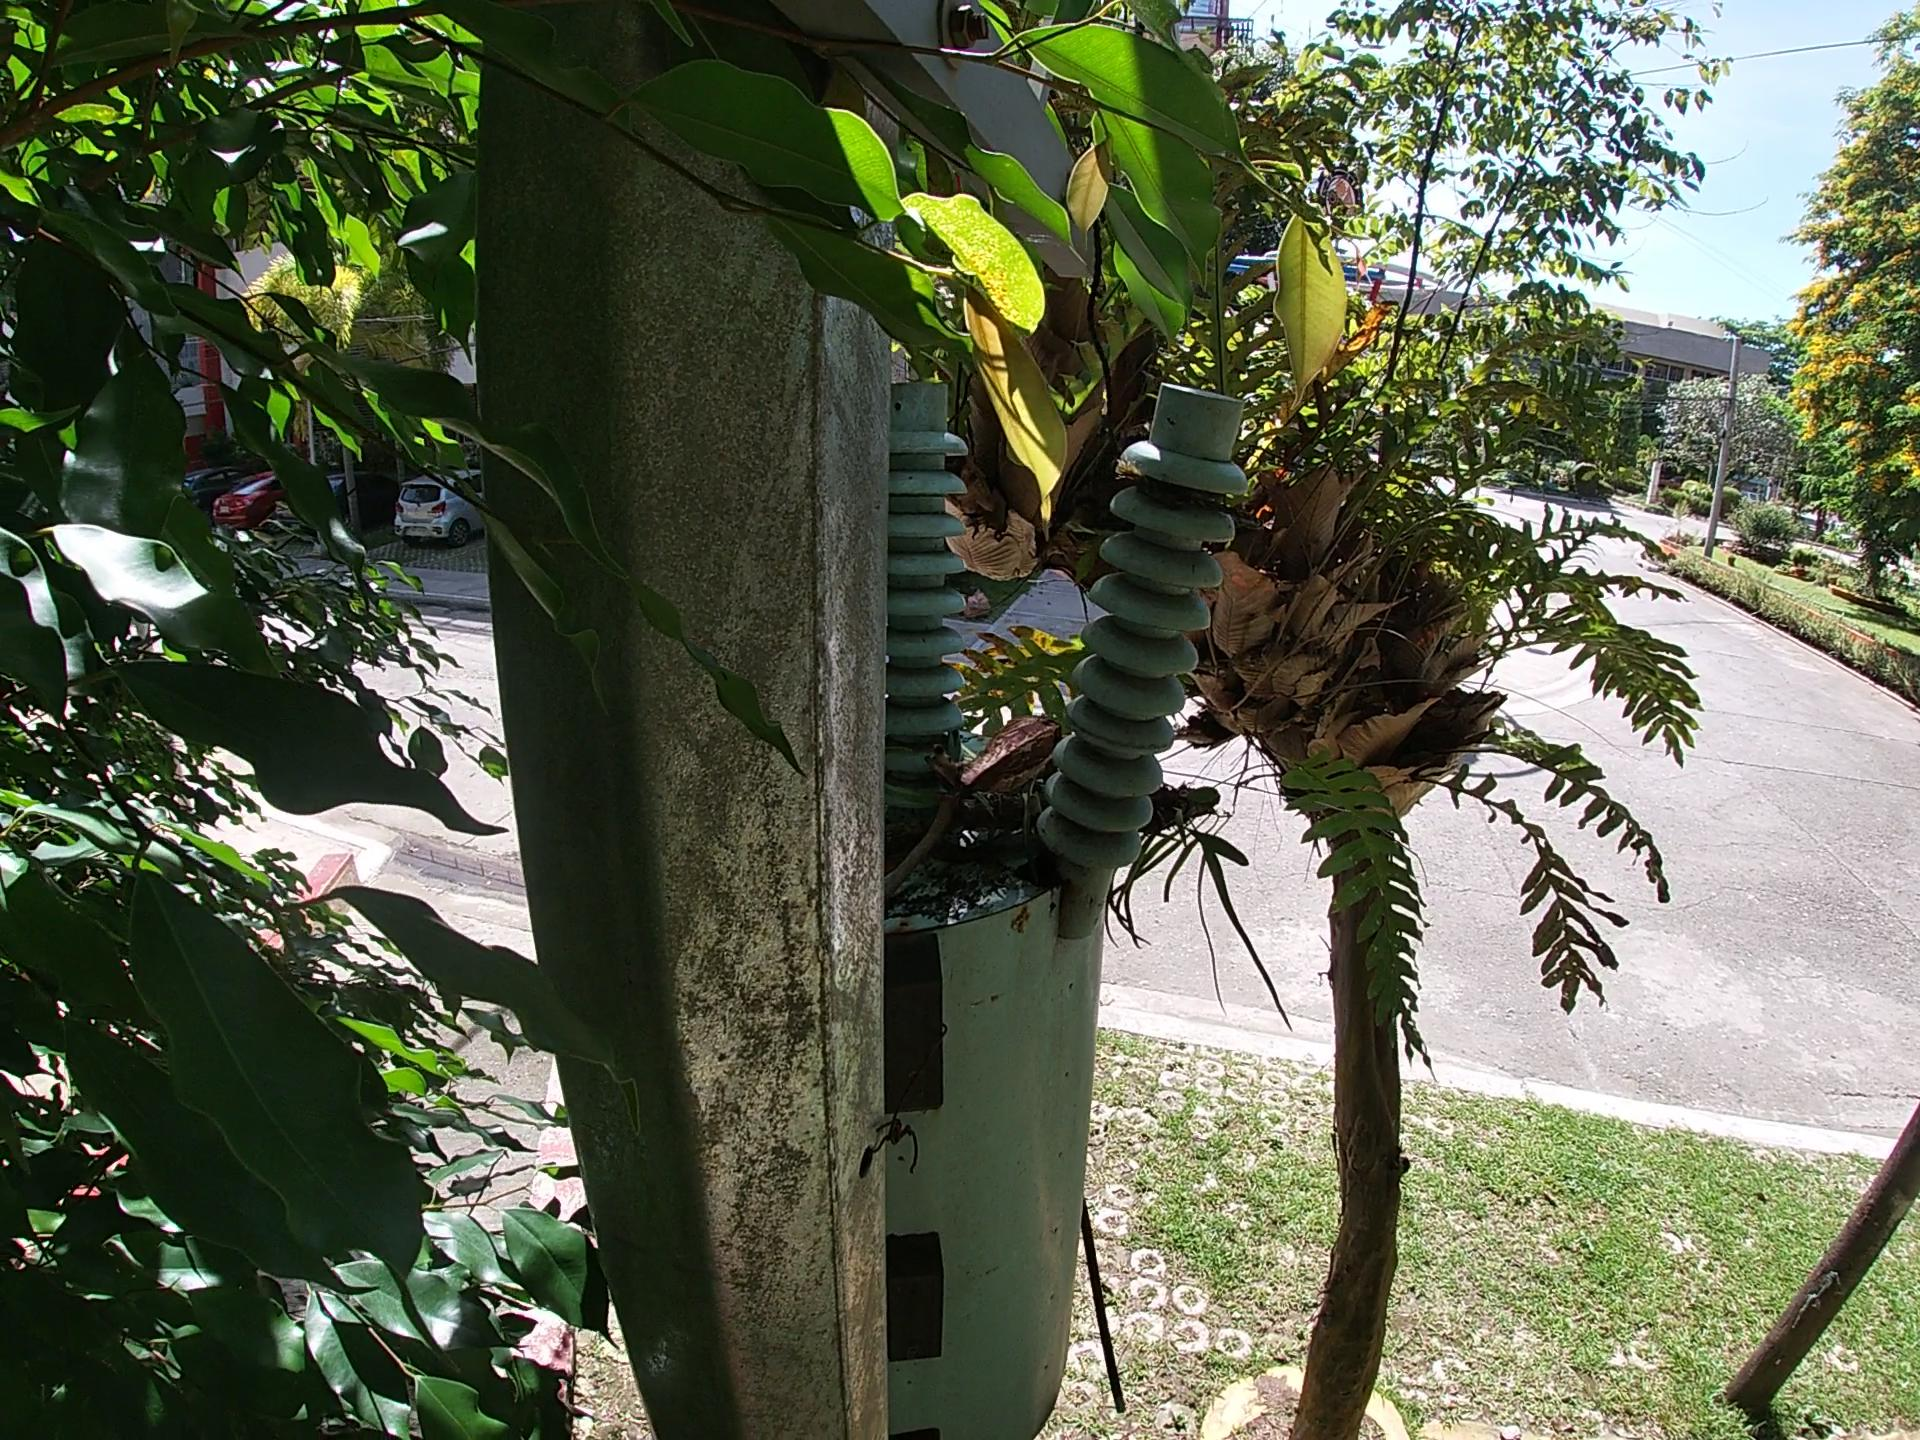branch with leaves: (900, 687, 1234, 835)
mahogany fruit: (957, 735, 1114, 824), (1008, 717, 1110, 824), (1008, 717, 1010, 722)
tree branch: (900, 715, 1002, 905)
